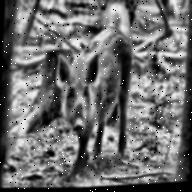boar: (48, 0, 135, 178)
